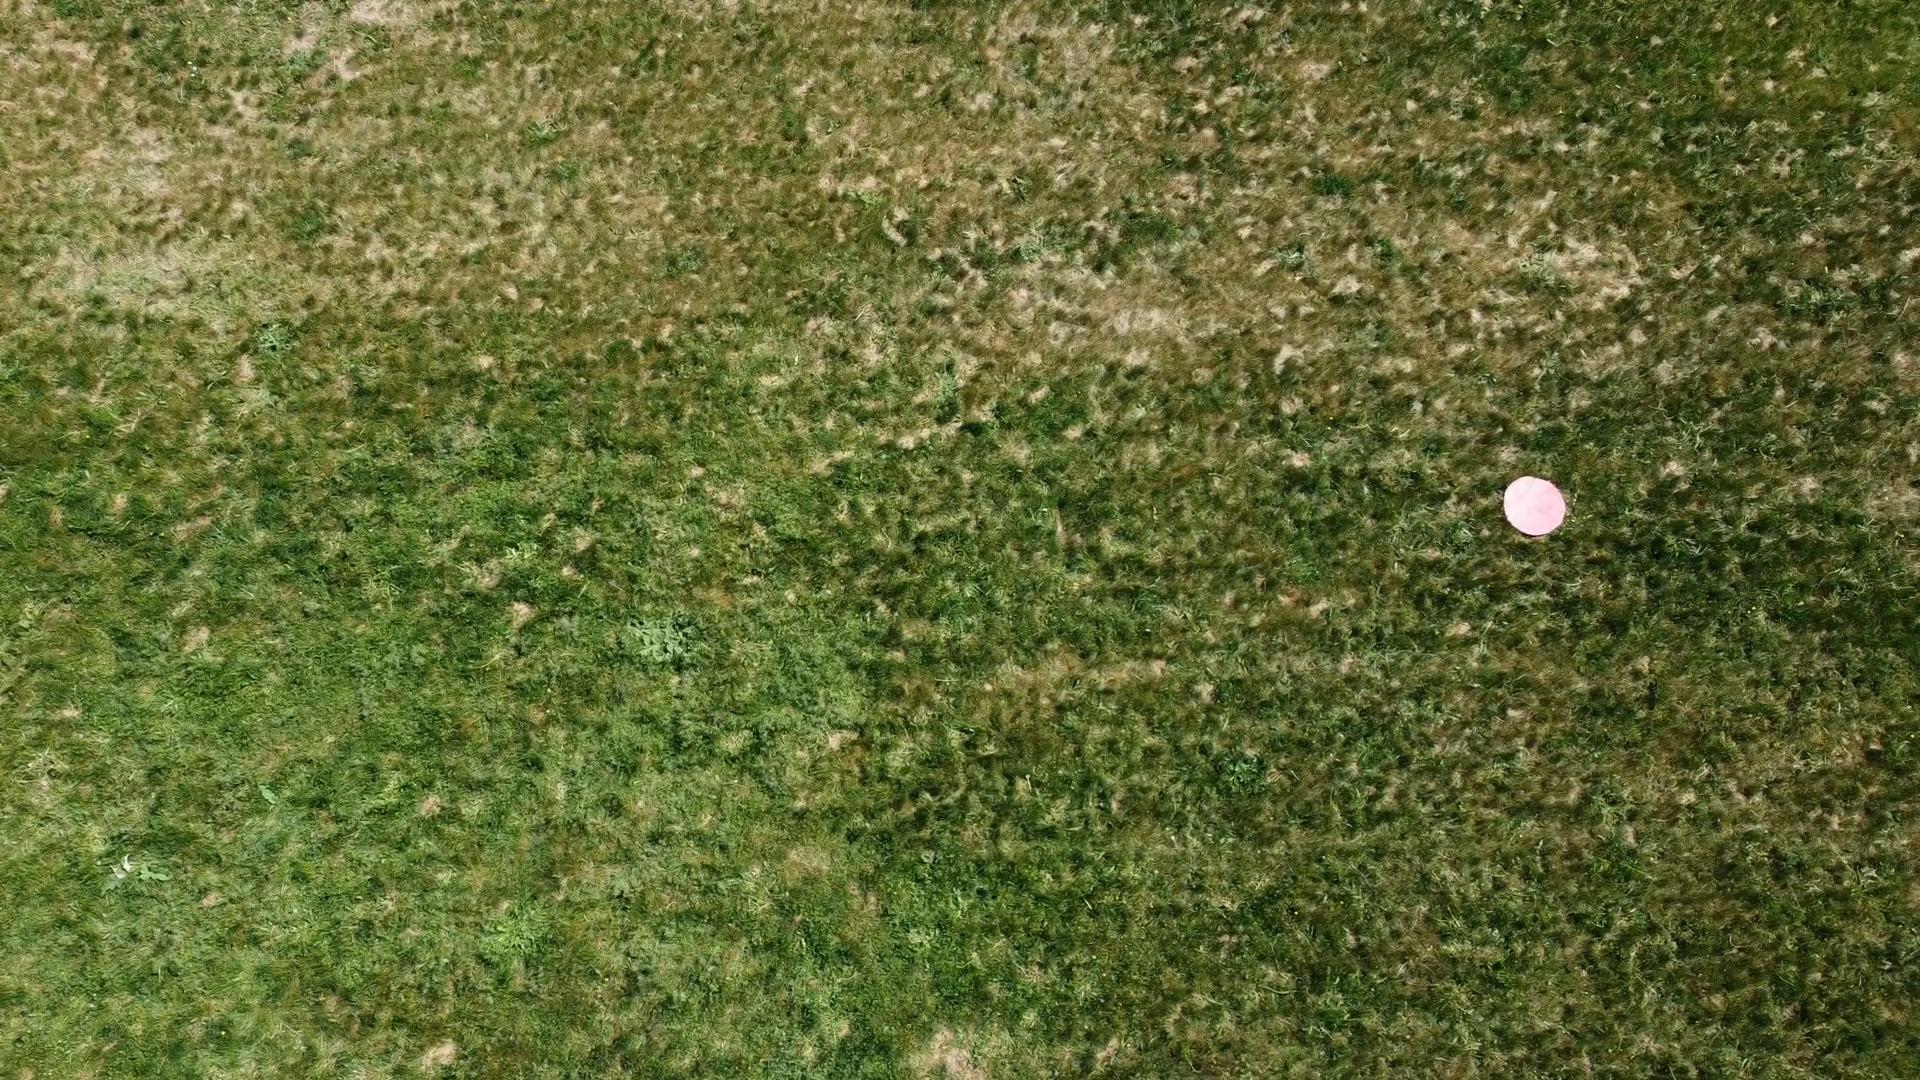Red: (1501, 473, 1569, 538)
